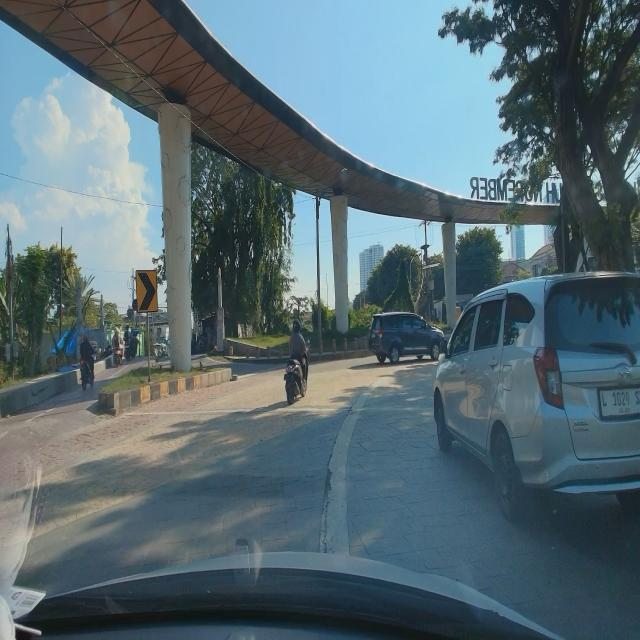car: (431, 266, 640, 528)
license-plate: (594, 381, 640, 424)
